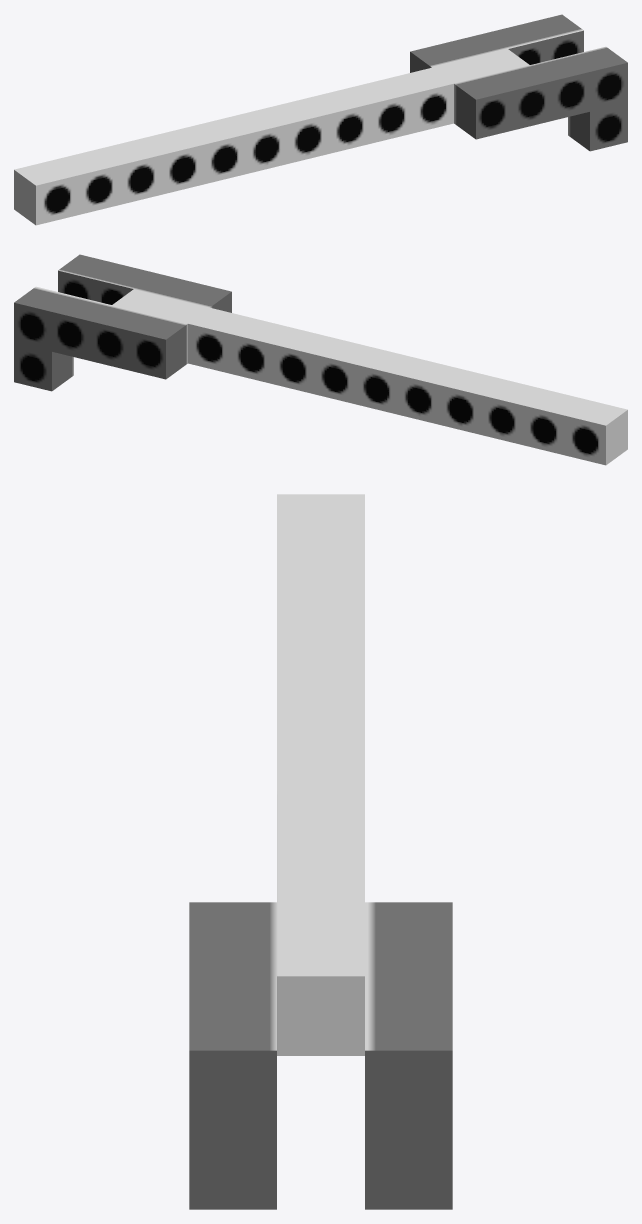
The model's file is sensorarm.obj.
3 views of the same model, one above another, from view 1: azimuth 30°, elevation 25°; view 2: azimuth 150°, elevation 25°; view 3: azimuth 270°, elevation 25° (orthographic). The views are drawn at different scales.
Visible parts, largest first — view 1: cube4_sep13; view 2: cube4_sep13; view 3: cube4_sep13.
Part boxes in pixels (x1=…): cube4_sep13: x1=14, y1=14, x2=627, y2=225; cube4_sep13: x1=14, y1=254, x2=627, y2=465; cube4_sep13: x1=189, y1=494, x2=452, y2=1209.
Size of the model in its own units: 1.5 by 0.2 by 0.3.
1 material, 1 textured.
